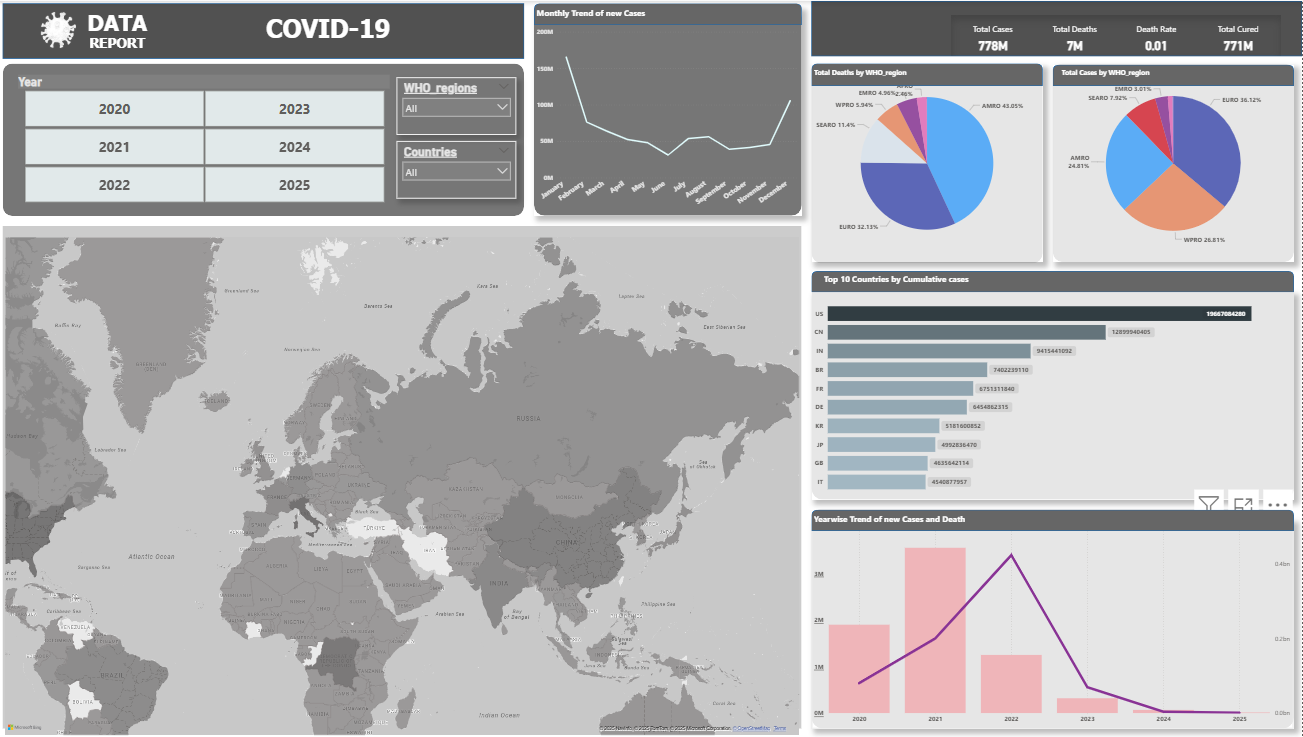

The page's visual inventory and layout, read from the dashboard file:
{"tool":"powerbi","page":{"name":"Regions","canvas":[2560,1440],"ordinal":0},"visuals":[{"type":"shape","box":[1600,0,960,108],"z":0},{"type":"shape","box":[1599.5,528.3,944,447.6],"z":1000},{"type":"cardVisual","fields":{"Data":["WHO-COVID-19-global-data.Total Cases","WHO-COVID-19-global-data.Total Deaths","WHO-COVID-19-global-data.Death Rate","WHO-COVID-19-global-data.Total Cured"]},"box":[1873.4,26.9,645.7,80.7],"z":2000},{"type":"textbox","box":[496,20,292,96],"z":3000},{"type":"shape","box":[1599.5,992.9,944,430.4],"z":4000},{"type":"barChart","fields":{"Category":["WHO-COVID-19-global-data.Country_code"],"Y":["Sum(WHO-COVID-19-global-data.Cumulative_cases)"]},"box":[1599.5,569.8,944,406],"z":5000},{"type":"lineStackedColumnComboChart","fields":{"Category":["WHO-COVID-19-global-data.Year"],"Y2":["WHO-COVID-19-global-data.Total Cases"],"Y":["WHO-COVID-19-global-data.Total Deaths"]},"box":[1599.5,1015,944,408.4],"z":6000},{"type":"shape","box":[17.1,440.2,1562.8,983.2],"z":7000},{"type":"filledMap","fields":{"Category":["WHO-COVID-19-global-data.Country"]},"box":[17.1,457.3,1562.8,983.2],"z":8000},{"type":"shape","box":[2071.5,122.3,472,388.9],"z":9000},{"type":"shape","box":[1599.5,124.7,452.4,388.9],"z":10000},{"type":"pieChart","fields":{"Category":["WHO-COVID-19-global-data.WHO_region"],"Y":["WHO-COVID-19-global-data.Total Cases"]},"box":[2071.5,124.7,472,386.4],"z":11000},{"type":"pieChart","fields":{"Category":["WHO-COVID-19-global-data.WHO_region"],"Y":["WHO-COVID-19-global-data.Total Deaths"]},"box":[1599.5,124.7,452.4,386.4],"z":12000},{"type":"shape","box":[17.1,122.3,1019.8,298.4],"z":13000},{"type":"shape","box":[1056,12,524,408],"z":14000},{"type":"slicer","fields":{"Values":["WHO-COVID-19-global-data.Year"]},"box":[34.2,139.4,753.3,261.7],"z":15000},{"type":"shape","box":[18,6,1020,108],"z":16000},{"type":"slicer","fields":{"Values":["WHO-COVID-19-global-data.WHO_region"]},"box":[787.5,149.2,234.8,112.5],"z":17000},{"type":"lineChart","fields":{"Category":["WHO-COVID-19-global-data.Month Name"],"Y":["WHO-COVID-19-global-data.Total Cases"]},"box":[1055,47.5,525,372.5],"z":18000},{"type":"shape","box":[1599.5,122.3,452.4,44],"z":19000},{"type":"textbox","box":[1599.5,124.7,227.4,41.6],"z":20000},{"type":"shape","box":[2071.5,124.7,472,41.6],"z":21000},{"type":"shape","box":[1599.5,528.3,944,41.6],"z":22000},{"type":"textbox","box":[2083.7,124.7,227.4,41.6],"z":23000},{"type":"textbox","box":[1619,528.3,386.4,41.6],"z":24000},{"type":"shape","box":[1599.5,995.4,944,41.6],"z":25000},{"type":"textbox","box":[1599.5,997.8,386.4,41.6],"z":26000},{"type":"shape","box":[1056,6,524,42],"z":27000},{"type":"textbox","box":[1056,8,386,40],"z":28000},{"type":"textbox","box":[95.4,12.2,291,95.4],"z":29000},{"type":"textbox","box":[95.4,61.1,291,95.4],"z":30000},{"type":"image","box":[0,0,237.2,110.1],"z":31000},{"type":"slicer","fields":{"Values":["WHO-COVID-19-global-data.Country"]},"box":[787.5,273.9,234.8,112.5],"z":32000},{"type":"textbox","box":[508,20,290,96],"z":33000}]}

Visuals, with their boxes in screenshot pixels (x1, y1, x2, y2), scaled from the page's 2560x1440 canvas onto the 1303x737 screenshot:
shape: 814,0,1302,55
shape: 814,270,1295,499
cardVisual - WHO-COVID-19-global-data.Total Cases x WHO-COVID-19-global-data.Total Deaths: 954,14,1282,55
textbox: 252,10,401,59
shape: 814,508,1295,728
barChart - WHO-COVID-19-global-data.Country_code x Sum(WHO-COVID-19-global-data.Cumulative_cases): 814,292,1295,499
lineStackedColumnComboChart - WHO-COVID-19-global-data.Year x WHO-COVID-19-global-data.Total Cases: 814,519,1295,729
shape: 9,225,804,729
filledMap - WHO-COVID-19-global-data.Country: 9,234,804,736
shape: 1054,63,1295,262
shape: 814,64,1044,263
pieChart - WHO-COVID-19-global-data.WHO_region x WHO-COVID-19-global-data.Total Cases: 1054,64,1295,262
pieChart - WHO-COVID-19-global-data.WHO_region x WHO-COVID-19-global-data.Total Deaths: 814,64,1044,262
shape: 9,63,528,215
shape: 537,6,804,215
slicer - WHO-COVID-19-global-data.Year: 17,71,401,205
shape: 9,3,528,58
slicer - WHO-COVID-19-global-data.WHO_region: 401,76,520,134
lineChart - WHO-COVID-19-global-data.Month Name x WHO-COVID-19-global-data.Total Cases: 537,24,804,215
shape: 814,63,1044,85
textbox: 814,64,930,85
shape: 1054,64,1295,85
shape: 814,270,1295,292
textbox: 1061,64,1176,85
textbox: 824,270,1021,292
shape: 814,509,1295,531
textbox: 814,511,1011,532
shape: 537,3,804,25
textbox: 537,4,734,25
textbox: 49,6,197,55
textbox: 49,31,197,80
image: 0,0,121,56
slicer - WHO-COVID-19-global-data.Country: 401,140,520,198
textbox: 259,10,406,59
